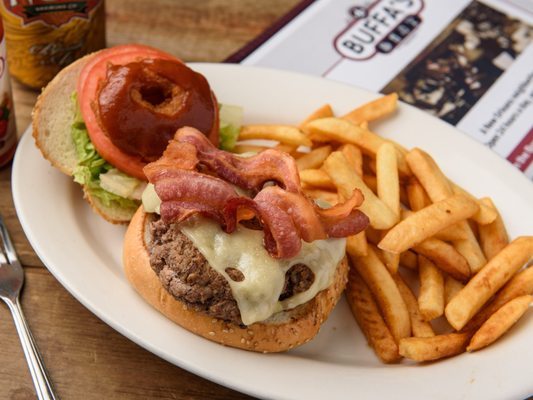pizza: (0, 0, 106, 92)
soup: (122, 120, 362, 354), (30, 43, 221, 226)
